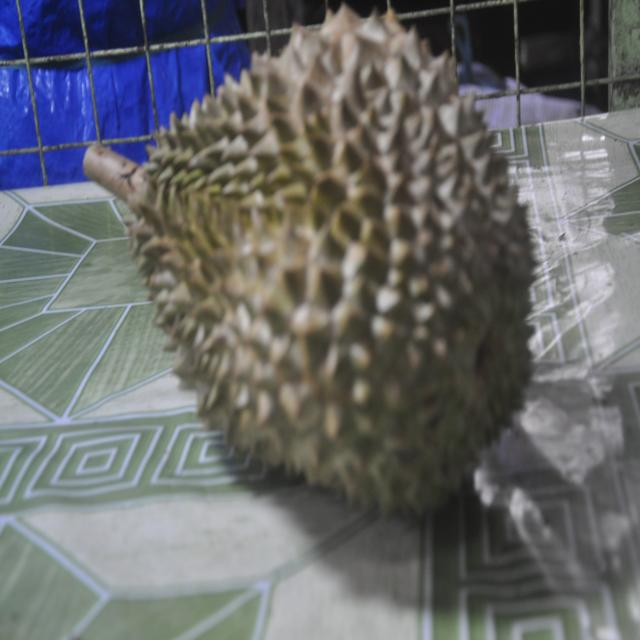mature: (131, 5, 532, 513)
